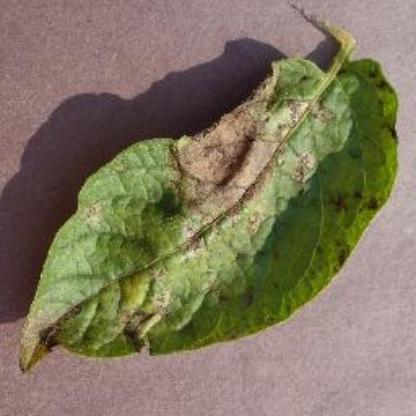Late-Blight: (1, 21, 406, 395)
